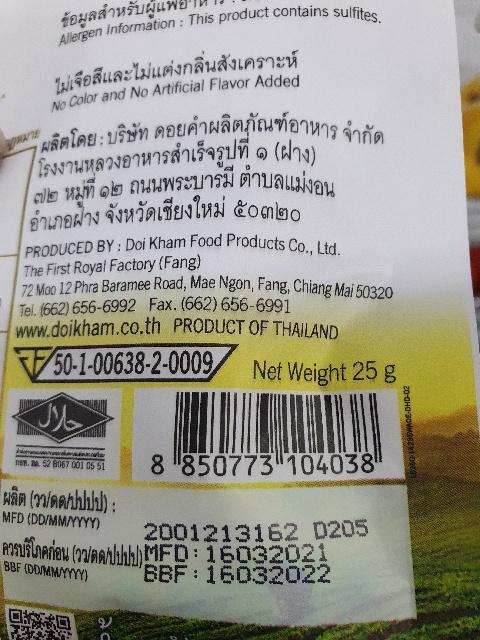Barcode: (137, 387, 405, 482)
